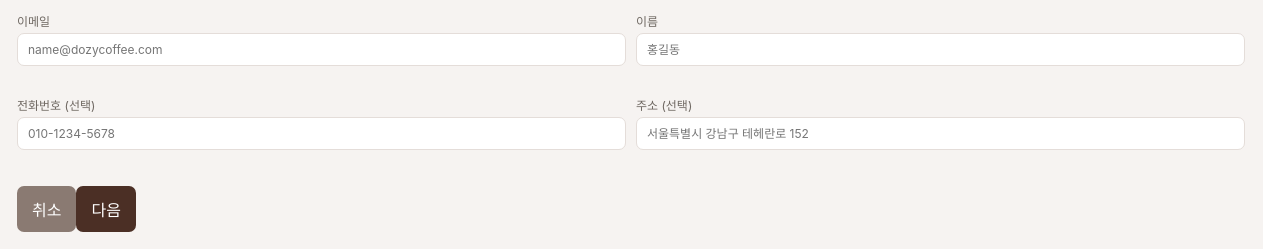
Test: InviteEmployeeForm › 추가하면 초대 메일이 발송되고 직원이 비밀번호를 정해야 활성화된다고 안내한다
Type "new@dozycoffee.com" into the field labelled "이메일" at [322, 50], box [17,33,626,66]
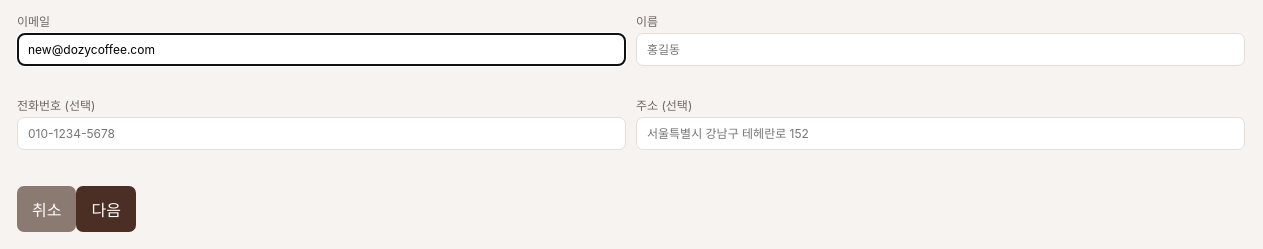
Type "신입" into the field labelled "이름" at [940, 50], box [636,33,1245,66]
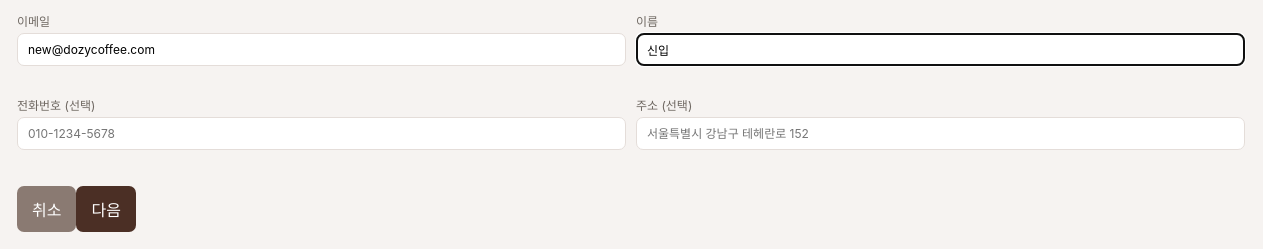
Click the button "다음" at [106, 209], box [76,186,136,232]
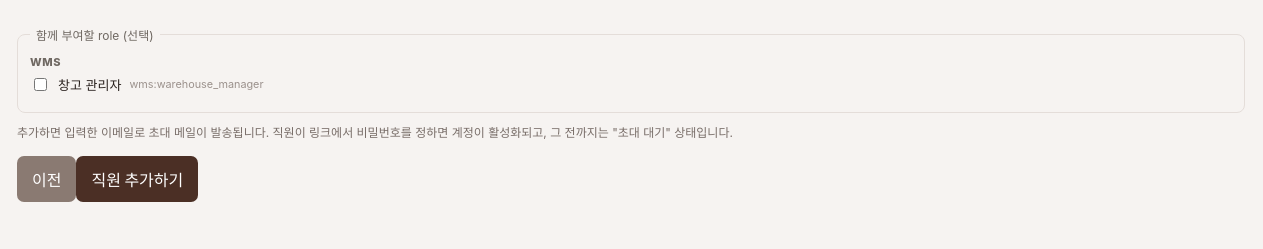
Check: the text "추가하면 입력한 이메일로 초대 메일이 발송됩니다" is shown, box [17,125,733,140]
